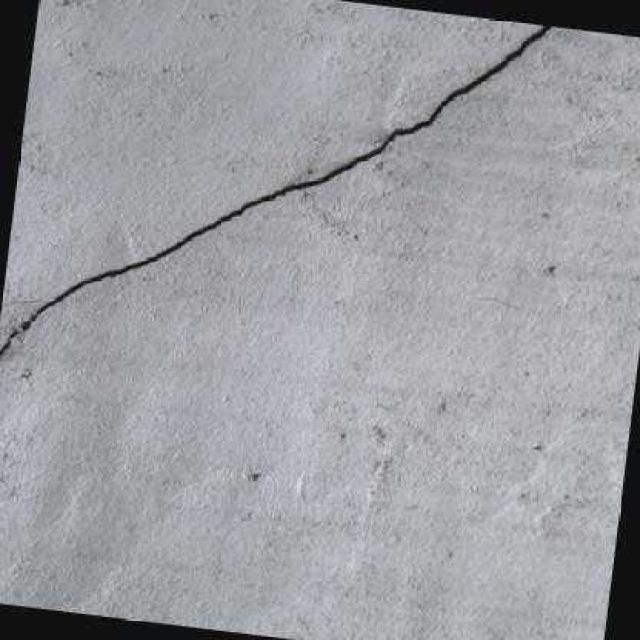D00: (0, 25, 555, 355)
